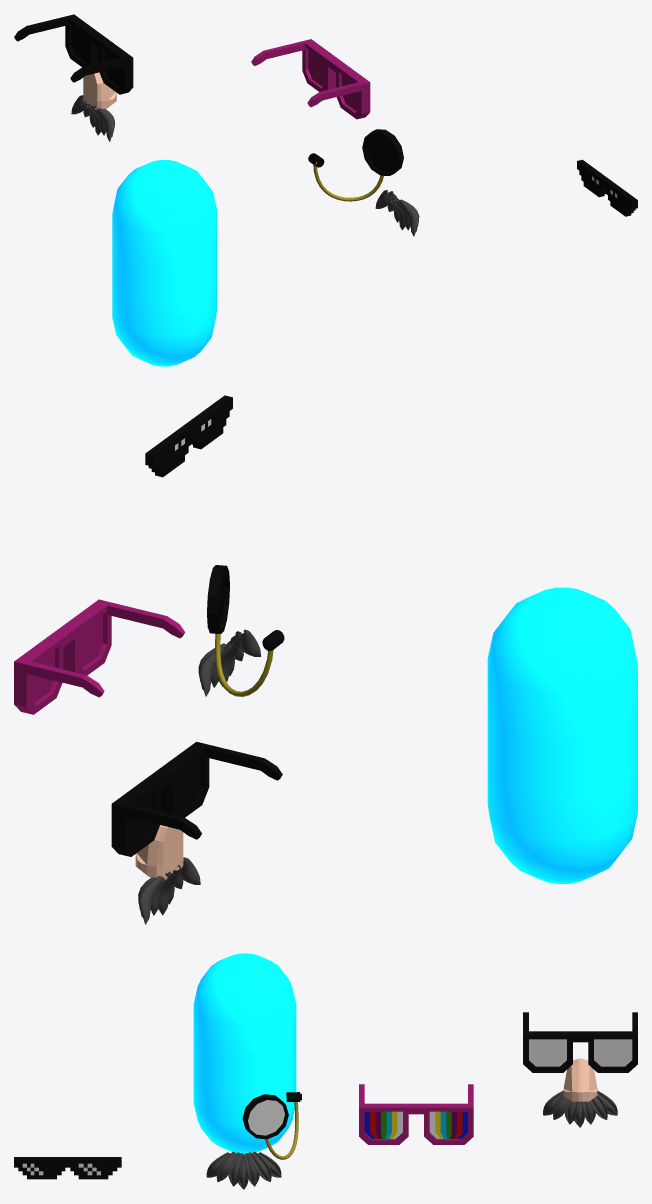
Rendered from assets (1).fbx.
3 renders of one model, top to bottom at view 1: azimuth 30°, elevation 25°; view 2: azimuth 150°, elevation 25°; view 3: azimuth 270°, elevation 25°, orthographic. The views are drawn at different scales.
Visible parts, largest first — view 1: Player.001, NurbsPath.003, Cube, NurbsPath.001, Cube.001; view 2: Player.001, NurbsPath.003, Cube, NurbsPath.001, Cube.001; view 3: Player.001, NurbsPath.003, Cube, NurbsPath.001, Cube.001.
Boxes of the visible parts, <box> form: Player.001: <box>112,160,216,366</box>; NurbsPath.003: <box>14,14,133,141</box>; Cube: <box>251,39,370,119</box>; NurbsPath.001: <box>308,129,419,236</box>; Cube.001: <box>577,159,637,216</box>; Player.001: <box>487,587,637,883</box>; NurbsPath.003: <box>111,741,282,924</box>; Cube: <box>14,599,184,714</box>; NurbsPath.001: <box>198,565,284,696</box>; Cube.001: <box>145,395,232,477</box>; Player.001: <box>193,953,296,1153</box>; NurbsPath.003: <box>523,1012,637,1127</box>; Cube: <box>359,1084,473,1144</box>; NurbsPath.001: <box>206,1092,301,1189</box>; Cube.001: <box>14,1157,121,1179</box>.
Bounding box in the file's own units: 875 × 411 × 1216.
